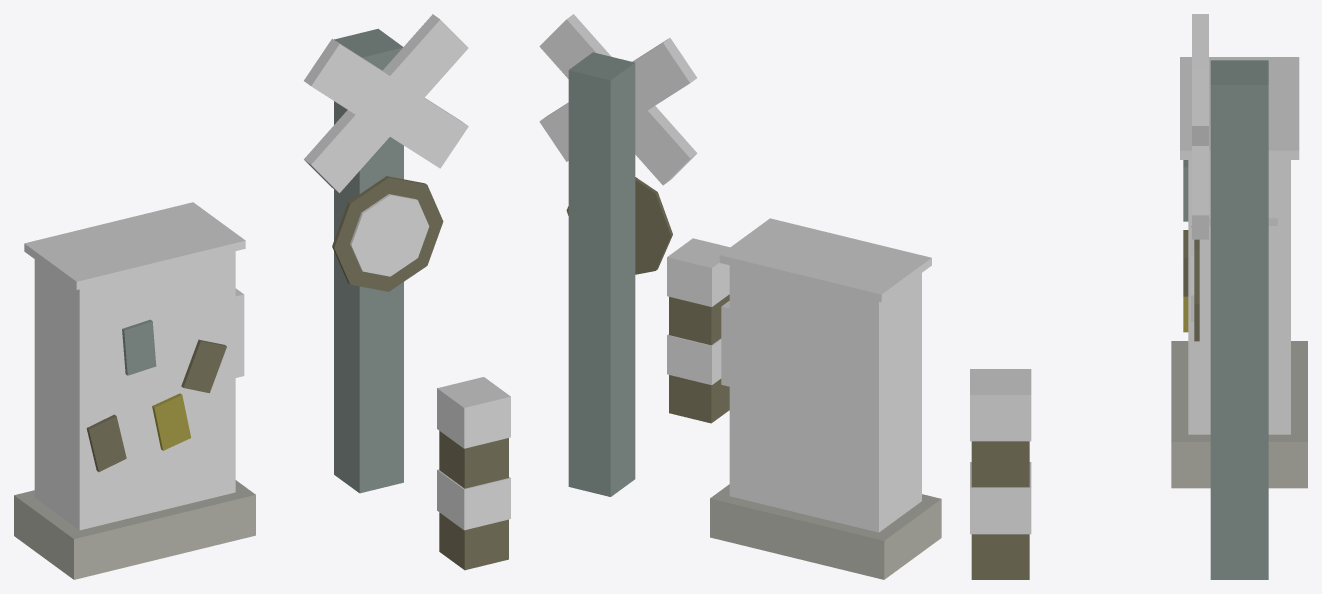
The model's file is SM_ArmarioAdif_v1_Pintado_LOD1.fbx.
The picture shows the model from 3 angles, left to right: view 1: azimuth 30°, elevation 25°; view 2: azimuth 150°, elevation 25°; view 3: azimuth 270°, elevation 25°; orthographic projection. The views are drawn at different scales.
Visible parts, largest first — view 1: SM_sagunto_vivo_v11_LOD1; view 2: SM_sagunto_vivo_v11_LOD1; view 3: SM_sagunto_vivo_v11_LOD1.
Part boxes in pixels (bbox=[...]): SM_sagunto_vivo_v11_LOD1: bbox=[14, 14, 510, 579]; SM_sagunto_vivo_v11_LOD1: bbox=[539, 14, 941, 579]; SM_sagunto_vivo_v11_LOD1: bbox=[970, 14, 1307, 579].
Bounding box in the file's own units: 3.11 × 3.4 × 1.98.
